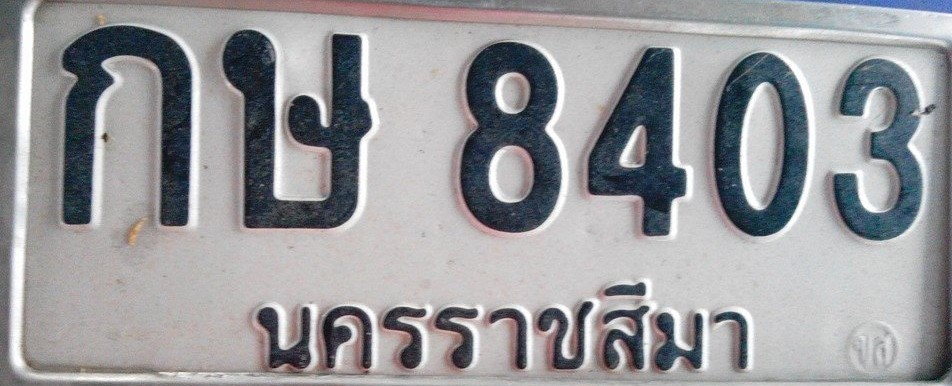txt02: (49, 17, 204, 233)
txt34: (215, 25, 384, 241)
